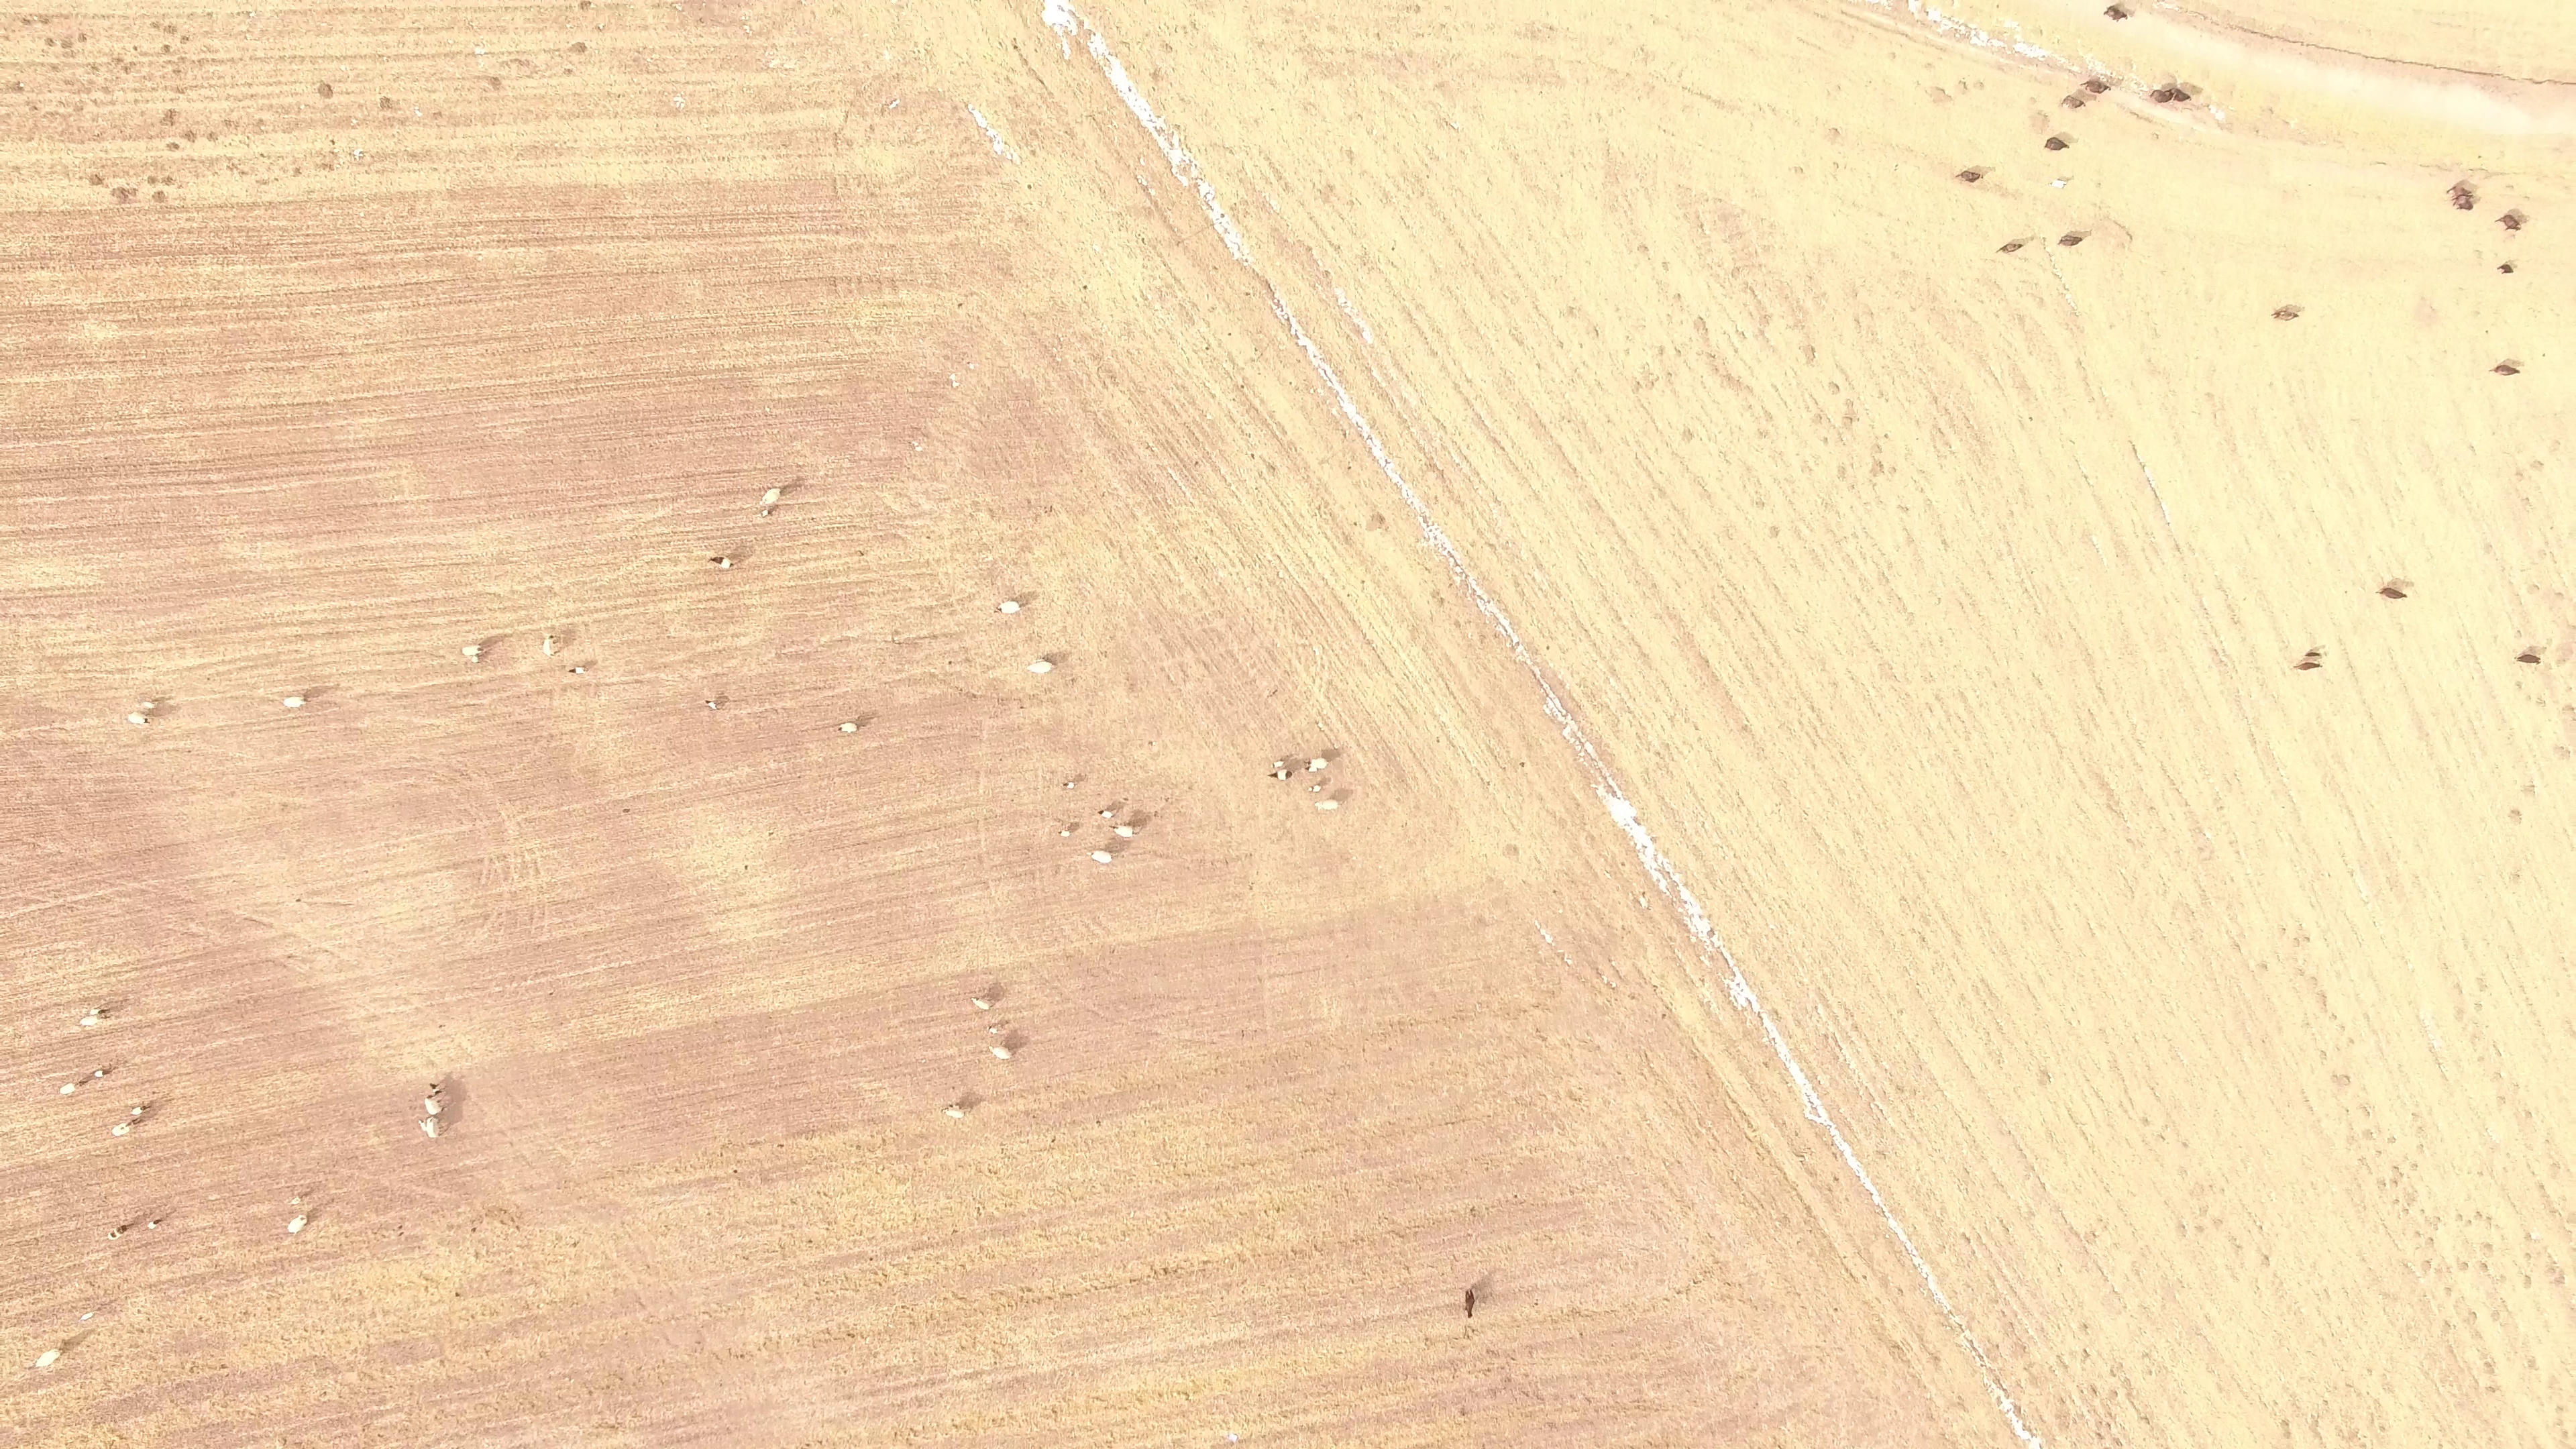sheep: (32, 1345, 64, 1371), (2100, 2, 2131, 26), (109, 1116, 141, 1139), (992, 597, 1023, 619), (2491, 357, 2523, 379), (2271, 303, 2303, 324), (2449, 189, 2475, 213), (1108, 820, 1142, 841), (2042, 133, 2072, 154), (2377, 583, 2409, 602), (2078, 78, 2110, 97), (1462, 1287, 1480, 1321), (1025, 657, 1057, 676), (57, 1077, 87, 1097), (833, 717, 864, 736), (2056, 231, 2086, 250), (284, 1212, 309, 1236), (422, 1116, 443, 1141), (2497, 212, 2523, 233), (1313, 796, 1340, 816), (2148, 87, 2176, 106), (2060, 93, 2087, 113), (1265, 766, 1295, 784), (1304, 756, 1330, 774), (1998, 237, 2025, 256), (78, 1013, 110, 1029), (2292, 658, 2324, 674), (105, 1223, 133, 1241), (2514, 650, 2542, 667), (1089, 845, 1114, 866), (1957, 167, 1982, 186), (282, 692, 307, 712), (125, 711, 153, 729), (941, 1103, 965, 1121), (129, 1099, 152, 1119), (761, 486, 784, 506), (2167, 85, 2192, 103), (987, 1043, 1011, 1062), (540, 635, 557, 658), (709, 553, 733, 571), (421, 1096, 445, 1115), (969, 994, 991, 1012), (1095, 804, 1116, 823), (460, 644, 487, 657), (1055, 826, 1073, 843), (1307, 777, 1325, 796), (139, 698, 160, 713), (91, 1067, 113, 1081), (2047, 177, 2070, 191), (88, 1004, 111, 1018), (702, 697, 721, 713), (568, 664, 589, 678), (284, 1195, 302, 1210), (2498, 260, 2516, 276), (1267, 757, 1287, 770), (428, 1081, 442, 1099), (1059, 778, 1077, 791), (146, 1217, 162, 1232), (2302, 649, 2323, 661), (79, 1310, 95, 1323), (985, 1024, 1000, 1036)
unknown: (1002, 1029, 1022, 1057), (955, 1093, 983, 1112), (984, 983, 1004, 1004), (777, 480, 800, 499), (1611, 800, 1629, 822), (315, 80, 336, 101), (760, 501, 782, 518), (1469, 1278, 1489, 1295), (58, 1336, 75, 1356), (162, 111, 178, 128), (377, 95, 393, 111), (572, 39, 588, 55), (89, 175, 105, 189), (488, 74, 502, 92), (8, 83, 27, 95), (2010, 1402, 2025, 1415), (553, 634, 570, 646), (20, 16, 35, 28), (581, 658, 598, 669), (182, 130, 199, 142), (1226, 1432, 1240, 1443), (303, 1212, 315, 1226), (1542, 932, 1555, 946), (2508, 806, 2523, 819), (152, 694, 167, 705), (728, 550, 742, 563), (2477, 69, 2493, 80), (83, 1072, 95, 1084), (147, 174, 159, 186), (170, 140, 182, 152), (160, 42, 173, 56), (301, 1188, 315, 1199), (1149, 69, 1161, 83), (1160, 1265, 1172, 1277), (1849, 1159, 1859, 1171), (1842, 1149, 1854, 1160), (1789, 1063, 1800, 1075), (1695, 922, 1706, 934), (1739, 724, 1751, 734), (1376, 513, 1387, 525), (94, 331, 107, 341), (292, 165, 303, 176), (256, 116, 267, 128), (179, 33, 191, 44), (2241, 25, 2255, 36), (168, 25, 180, 36), (40, 15, 52, 28), (2112, 1436, 2123, 1446), (2279, 1417, 2290, 1428), (2488, 1385, 2498, 1395), (218, 1361, 228, 1372), (847, 1330, 858, 1341), (1477, 1294, 1487, 1305), (1024, 1285, 1034, 1295), (2261, 1253, 2271, 1263), (140, 1210, 150, 1220), (1839, 1141, 1851, 1152), (1794, 1075, 1805, 1087), (657, 1000, 667, 1010), (1538, 926, 1548, 937), (1116, 845, 1126, 855), (621, 806, 632, 816), (720, 692, 731, 702), (1058, 653, 1069, 664), (794, 474, 804, 484), (1808, 344, 1818, 356), (235, 262, 246, 272), (121, 191, 131, 202), (116, 186, 127, 197), (319, 161, 329, 171), (206, 131, 216, 142), (1831, 127, 1841, 138), (120, 63, 131, 74), (113, 55, 124, 66), (1010, 42, 1020, 52), (44, 35, 56, 46), (61, 12, 72, 22), (577, 2, 587, 12), (1815, 1104, 1825, 1116), (2284, 1429, 2294, 1440), (1931, 1353, 1941, 1363), (737, 1351, 747, 1361), (452, 1289, 462, 1300), (2483, 1241, 2493, 1251), (1745, 992, 1756, 1002), (969, 691, 979, 701), (1420, 515, 1430, 526), (1876, 461, 1886, 471), (948, 372, 958, 382), (1566, 307, 1576, 317), (1641, 244, 1651, 254), (155, 193, 165, 204), (1024, 182, 1034, 192), (435, 109, 445, 119), (79, 34, 89, 44)
